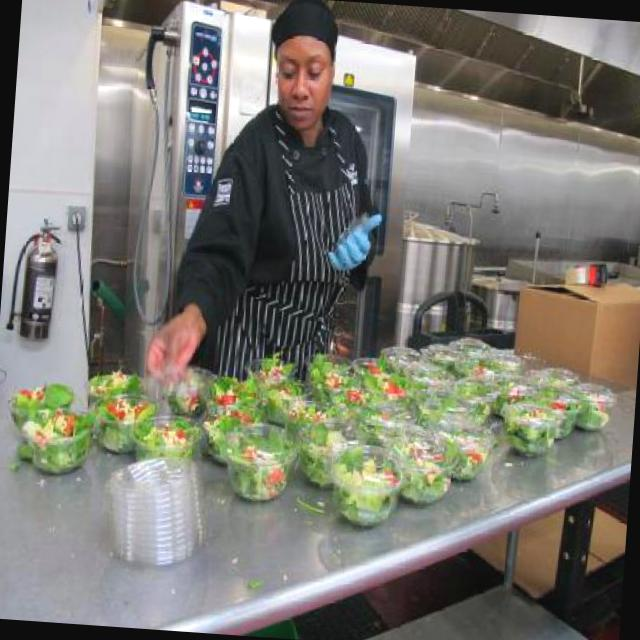Person: (148, 0, 395, 384)
